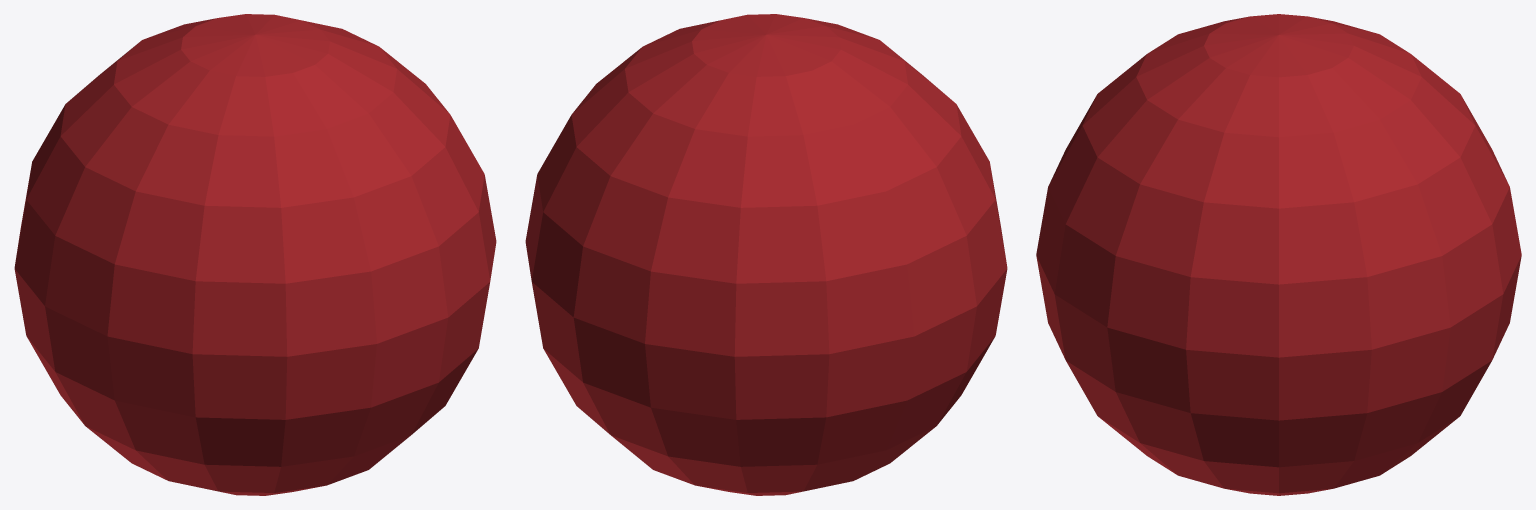
File: nociosphere_core.obj
The picture shows the model from 3 angles, left to right: view 1: azimuth 30°, elevation 25°; view 2: azimuth 150°, elevation 25°; view 3: azimuth 270°, elevation 25°; orthographic projection.
Visible parts, largest first — view 1: nociosphere_core; view 2: nociosphere_core; view 3: nociosphere_core.
Part boxes in pixels (left/top/right/bottom): nociosphere_core: left=14, top=14, right=496, bottom=495; nociosphere_core: left=525, top=14, right=1007, bottom=495; nociosphere_core: left=1036, top=14, right=1521, bottom=495.
Size of the model in its own units: 1.18 by 1.18 by 1.18.
